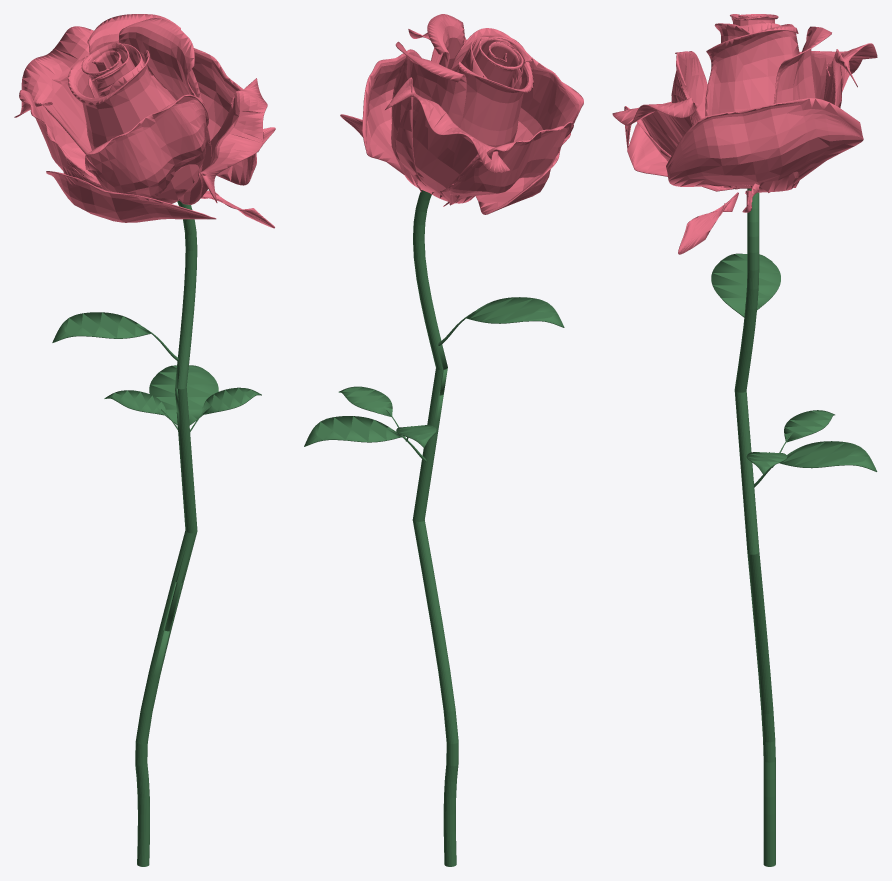
Rendered from rose.rose.fbx.
3 renders of one model, left to right at view 1: azimuth 30°, elevation 25°; view 2: azimuth 150°, elevation 25°; view 3: azimuth 270°, elevation 25°, orthographic.
Parts seen in each view (by area): view 1: Loft01.001, Loft01; view 2: Loft01.001, Loft01; view 3: Loft01.001, Loft01.
Part boxes in pixels (bbox=[...]): Loft01.001: bbox=[14, 14, 275, 228]; Loft01: bbox=[52, 200, 261, 866]; Loft01.001: bbox=[340, 14, 583, 214]; Loft01: bbox=[304, 190, 564, 866]; Loft01.001: bbox=[612, 14, 877, 254]; Loft01: bbox=[711, 188, 877, 866].
Bounding box in the file's own units: 144 × 513 × 146.
